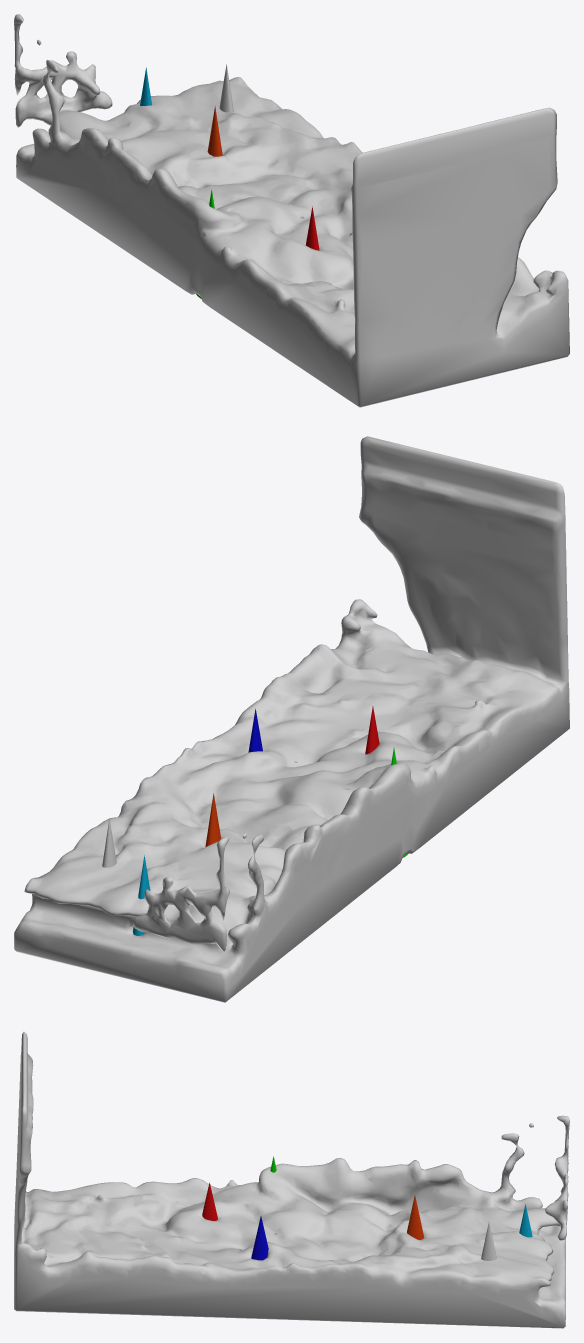
3 views of the same model, one above another, from view 1: azimuth 30°, elevation 25°; view 2: azimuth 150°, elevation 25°; view 3: azimuth 270°, elevation 25° (orthographic). The views are drawn at different scales.
Parts seen in each view (by area): view 1: Liquid_Domain; view 2: Liquid_Domain; view 3: Liquid_Domain, 円錐.002, 円錐.004.
Part boxes in pixels (x1,y1,x2,y2): Liquid_Domain: [14, 14, 569, 407]; Liquid_Domain: [14, 436, 569, 1002]; Liquid_Domain: [14, 1032, 569, 1328]; 円錐.002: [251, 1216, 268, 1260]; 円錐.004: [407, 1195, 423, 1239].
Bounding box in the file's own units: 129 × 158 × 364.
